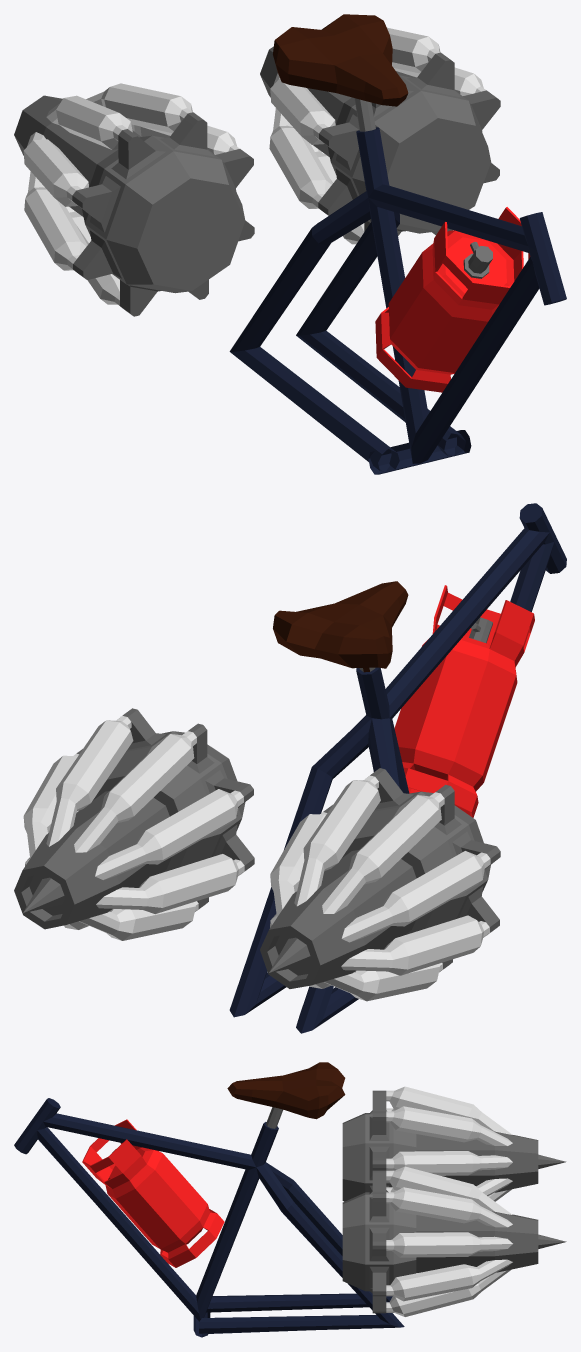
The model's file is Bike.fbx.
The picture shows the model from 3 angles, top to bottom: view 1: azimuth 30°, elevation 25°; view 2: azimuth 150°, elevation 25°; view 3: azimuth 270°, elevation 25°; orthographic projection. The views are drawn at different scales.
Parts seen in each view (by area): view 1: Bike; view 2: Bike; view 3: Bike.
Boxes of the visible parts, x1,y1,x2,y2 form: Bike: (14, 14, 566, 474); Bike: (14, 503, 566, 1033); Bike: (14, 1062, 566, 1337).
Size of the model in its own units: 0.933 by 0.7669 by 1.57.
